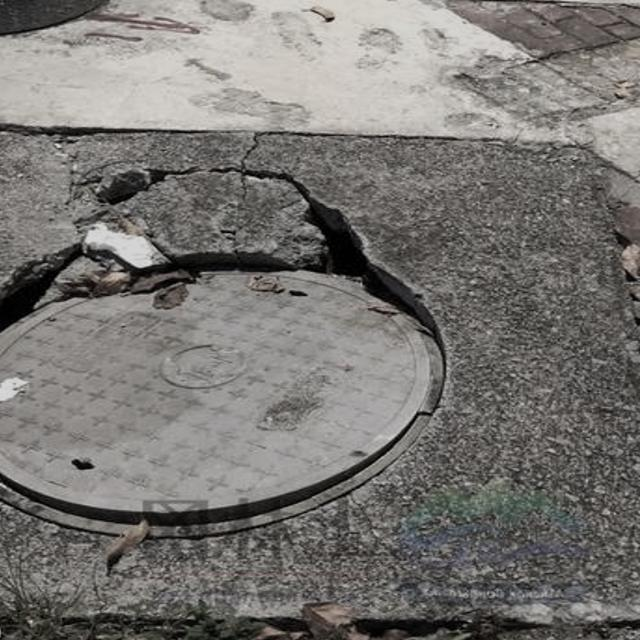circle: (0, 107, 640, 626)
